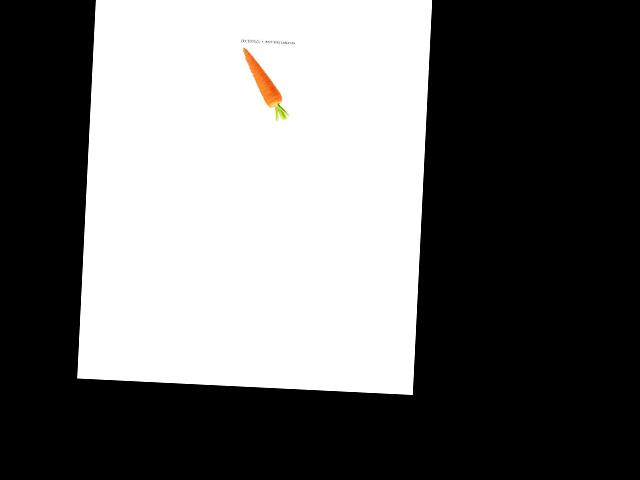carrot: (236, 45, 291, 112)
